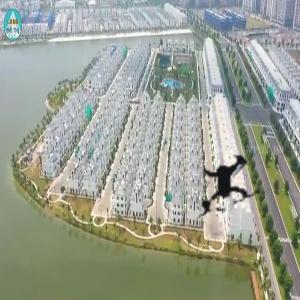drone: (163, 122, 293, 252)
